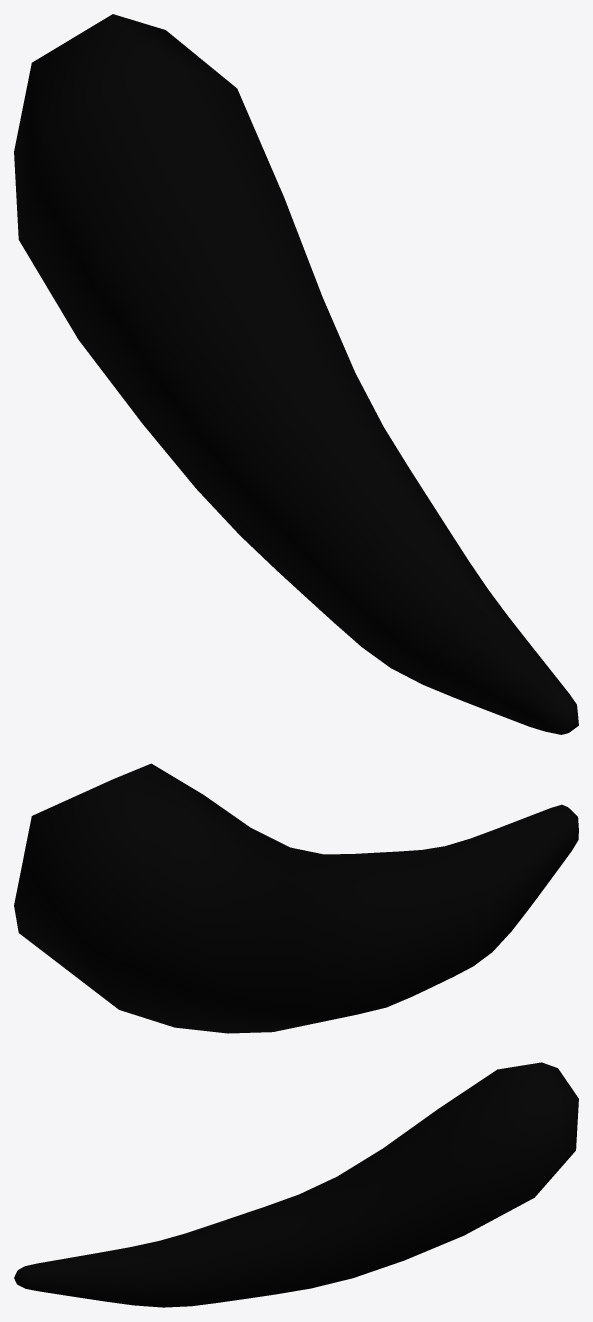
Rendered from Default Tail.fbx.
3 renders of one model, top to bottom at view 1: azimuth 30°, elevation 25°; view 2: azimuth 150°, elevation 25°; view 3: azimuth 270°, elevation 25°, orthographic. The views are drawn at different scales.
Parts seen in each view (by area): view 1: Kobold Tail Default; view 2: Kobold Tail Default; view 3: Kobold Tail Default.
Boxes of the visible parts, bbox=[...] form: Kobold Tail Default: bbox=[14, 14, 578, 734]; Kobold Tail Default: bbox=[14, 763, 578, 1033]; Kobold Tail Default: bbox=[14, 1062, 578, 1307].
Bounding box in the file's own units: 48.16 × 190 × 90.68.
1 material, 1 textured.
